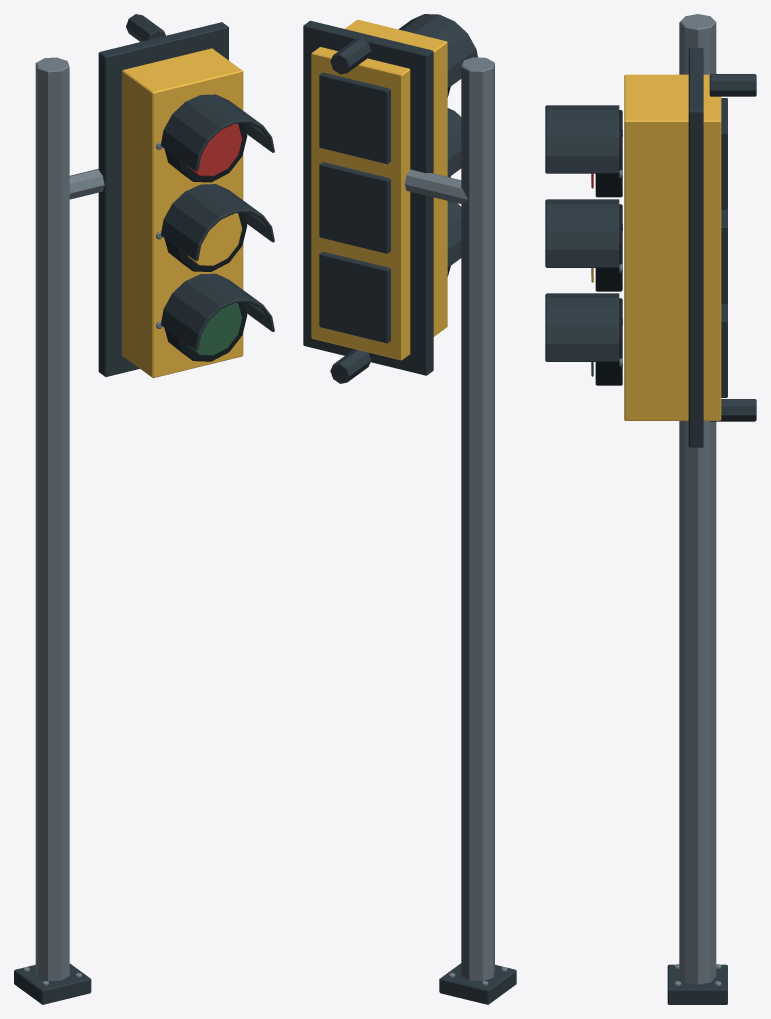
Rendered from b02_vertical_traffic_signal.glb.
3 views of the same model, side by side, from view 1: azimuth 30°, elevation 25°; view 2: azimuth 150°, elevation 25°; view 3: azimuth 270°, elevation 25° (orthographic). The views are drawn at different scales.
Parts seen in each view (by area): view 1: b02_vertical_traffic_signal; view 2: b02_vertical_traffic_signal; view 3: b02_vertical_traffic_signal.
Part boxes in pixels (x1=…): b02_vertical_traffic_signal: x1=14, y1=14, x2=274, y2=1004; b02_vertical_traffic_signal: x1=303, y1=14, x2=516, y2=1004; b02_vertical_traffic_signal: x1=545, y1=14, x2=756, y2=1004.
Bounding box in the file's own units: 0.715 × 3.21 × 0.63.
